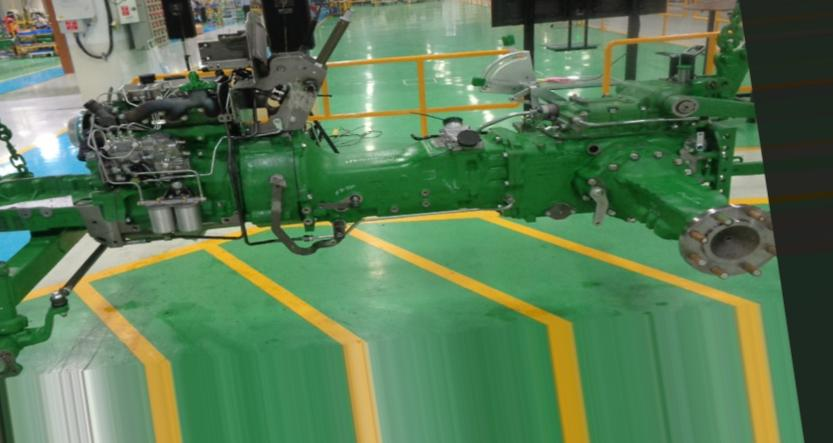engine: (0, 0, 781, 362)
